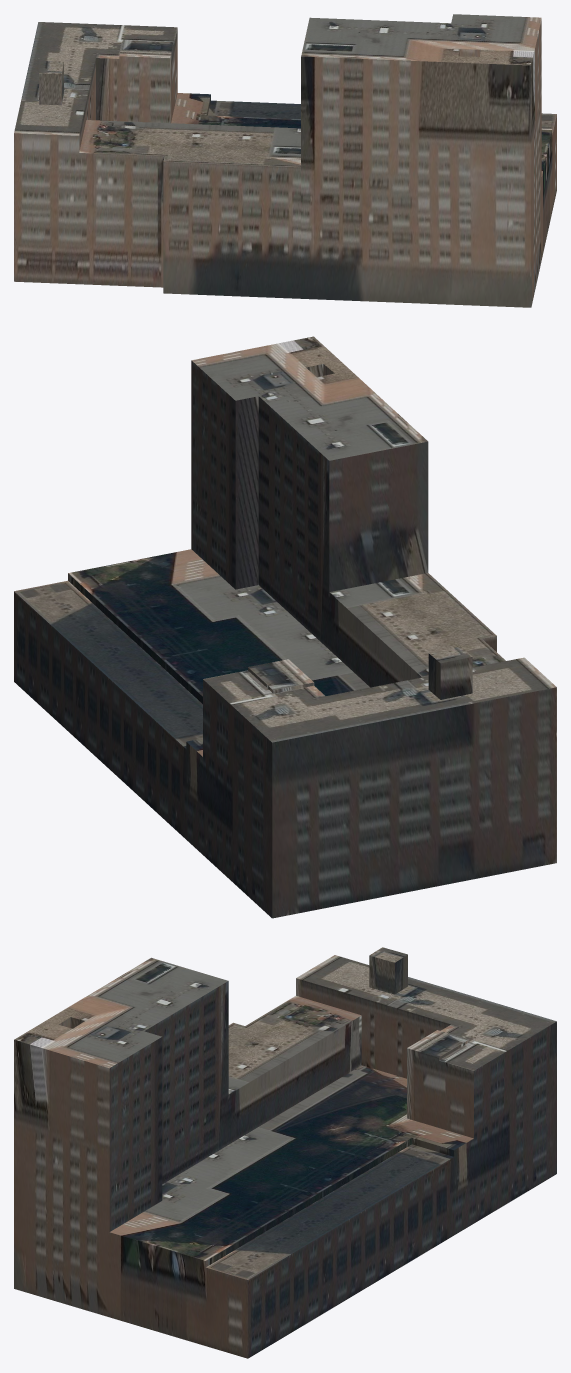
Rendered from {A19D9C3D-9AB3-46DA-ACE6-DF670DADD921}.gltf.
3 renders of one model, top to bottom at view 1: azimuth 30°, elevation 25°; view 2: azimuth 150°, elevation 25°; view 3: azimuth 270°, elevation 25°, orthographic. The views are drawn at different scales.
Parts seen in each view (by area): view 1: Z_UP; view 2: Z_UP; view 3: Z_UP.
Part boxes in pixels (bbox=[...]): Z_UP: bbox=[14, 14, 556, 307]; Z_UP: bbox=[14, 336, 556, 918]; Z_UP: bbox=[14, 947, 556, 1358].
Bounding box in the file's own units: 82.99 × 38.37 × 75.81.
Materials: 13 (12 with a texture image).
